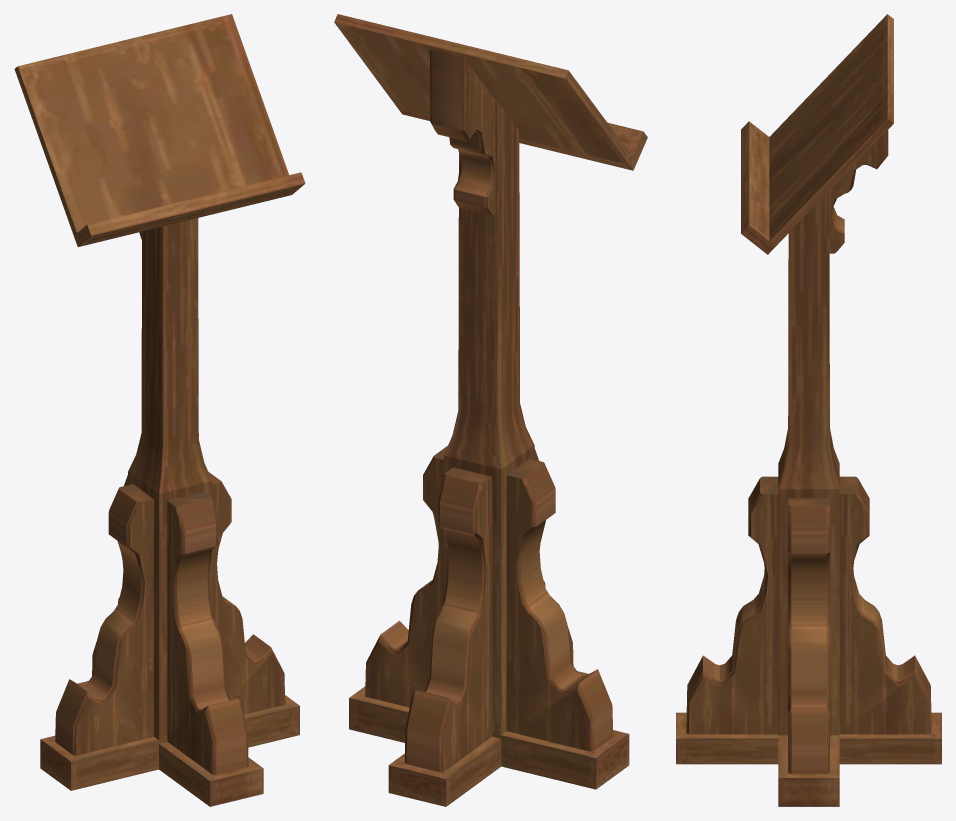
Rendered from BookStand.gltf.
3 renders of one model, left to right at view 1: azimuth 30°, elevation 25°; view 2: azimuth 150°, elevation 25°; view 3: azimuth 270°, elevation 25°, orthographic. The views are drawn at different scales.
Visible parts, largest first — view 1: BookStand; view 2: BookStand; view 3: BookStand.
Part boxes in pixels (bbox=[...]): BookStand: bbox=[14, 14, 305, 806]; BookStand: bbox=[334, 14, 647, 806]; BookStand: bbox=[676, 14, 941, 806].
Bounding box in the file's own units: 0.5071 × 1.45 × 0.5112.
1 material, 1 textured.
